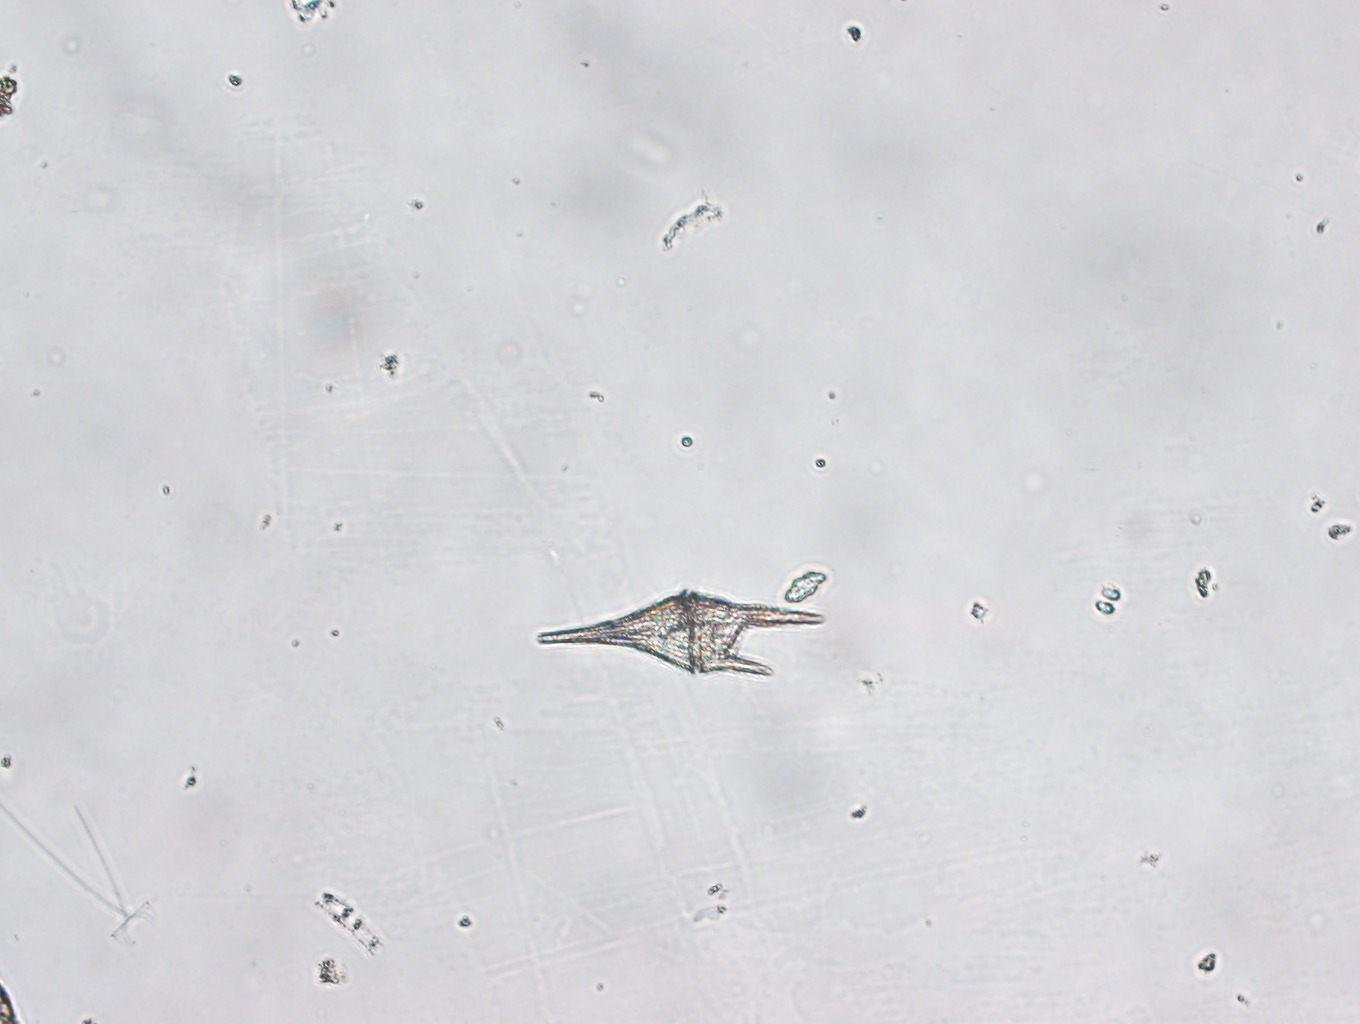ceratium furca: (536, 591, 827, 678)
